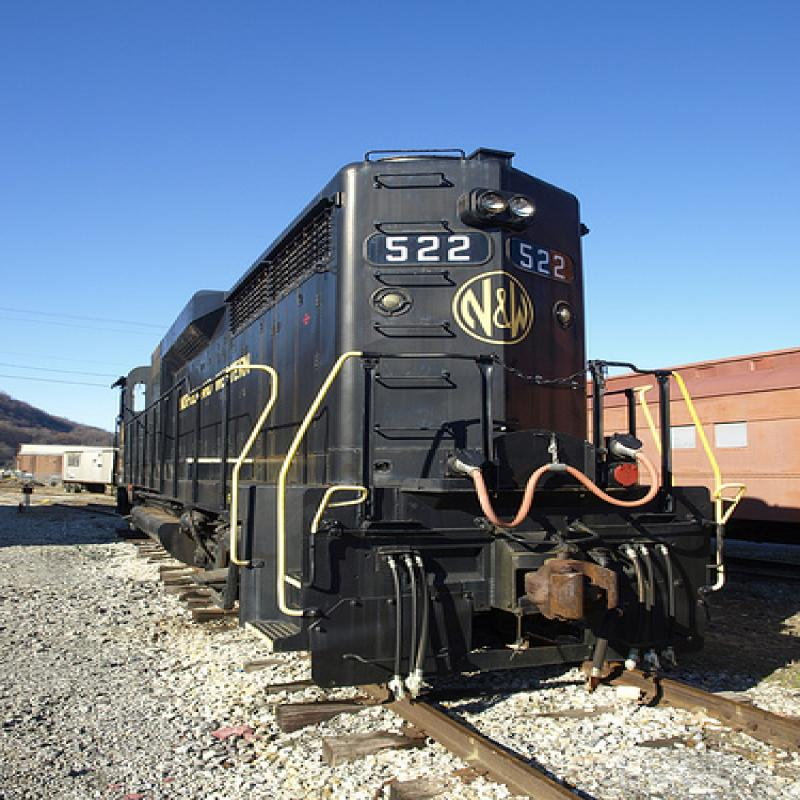train: (112, 153, 743, 702)
